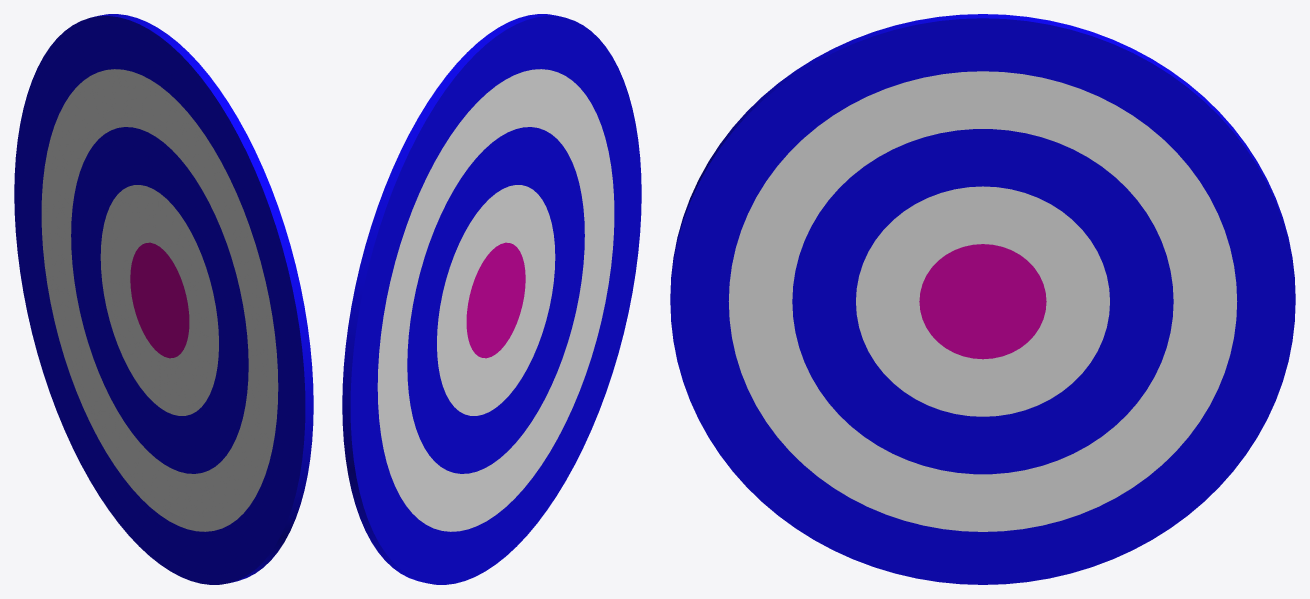
File: TunnelDoor1.fbx
The picture shows the model from 3 angles, left to right: view 1: azimuth 30°, elevation 25°; view 2: azimuth 150°, elevation 25°; view 3: azimuth 270°, elevation 25°; orthographic projection. The views are drawn at different scales.
Visible parts, largest first — view 1: Sweep [13871]; view 2: Sweep [13871]; view 3: Sweep [13871].
Boxes of the visible parts, bbox=[...] form: Sweep [13871]: bbox=[14, 14, 313, 584]; Sweep [13871]: bbox=[342, 14, 641, 584]; Sweep [13871]: bbox=[670, 14, 1295, 584].
Size of the model in its own units: 8 by 492 by 492.
